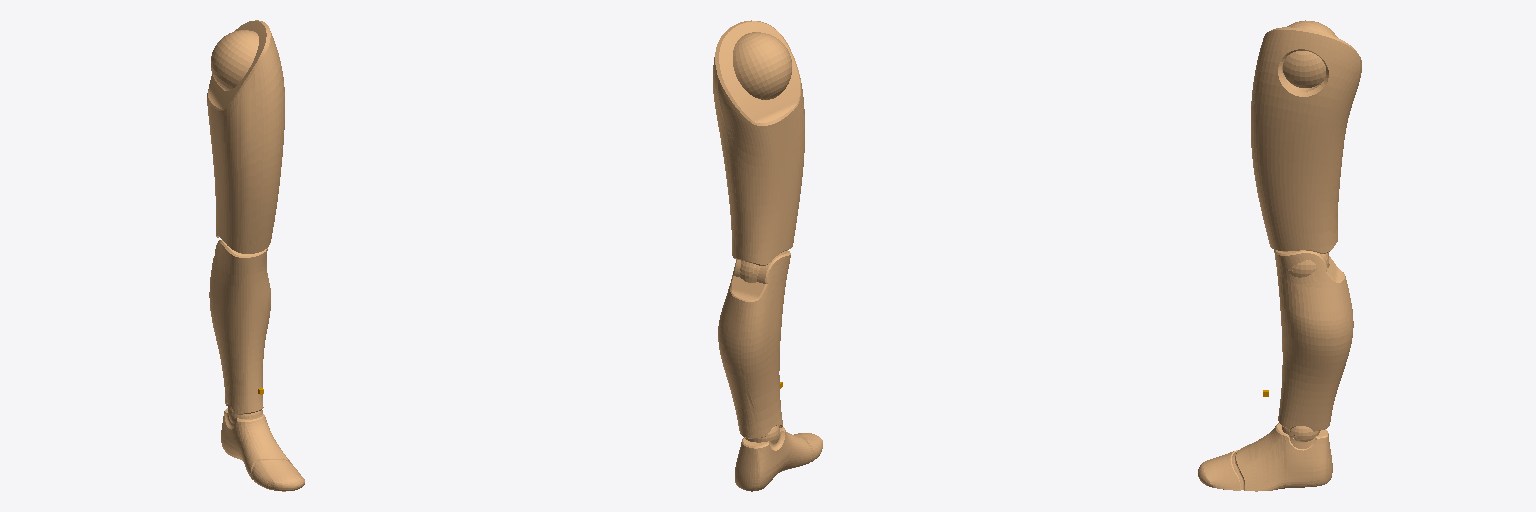
The robot description file, URDF, robot "left_leg":
<?xml version="1.0" ?>
<robot name="left_leg">

  <material name="skin">
    <color rgba="0.9 0.72 0.53 1.000"/>
  </material>

  <link name="base_link">
    <inertial>
      <origin xyz="0.0 0.0 0.0" rpy="0 0 0"/>
      <mass value="0.0"/>
      <inertia ixx="0.0" iyy="0.0" izz="0.0" ixy="0.0" iyz="0.0" ixz="0.0"/>
    </inertial>
  </link>

  <joint name="base_fixed" type="fixed">
    <origin rpy="0 0 0.0" xyz="0 0 0.0"/>
    <parent link="base_link"/>
    <child link="base_link_0"/>
  </joint>

  <link name="base_link_0">
    <inertial>
      <origin xyz="0.0 0.0 0.0" rpy="0 0 0"/>
      <mass value="0.0"/>
      <inertia ixx="0.0" iyy="0.0" izz="0.0" ixy="0.0" iyz="0.0" ixz="0.0"/>
    </inertial>
  </link>

  <link name="base_link_1">
    <inertial>
      <origin xyz="0.0 0.0 0.0" rpy="0 0 0"/>
      <mass value="0.0"/>
      <inertia ixx="0.0" iyy="0.0" izz="0.0" ixy="0.0" iyz="0.0" ixz="0.0"/>
    </inertial>
  </link>

  <link name="base_link_2">
    <inertial>
      <origin xyz="0.0 0.0 0.0" rpy="0 0 0"/>
      <mass value="0.0"/>
      <inertia ixx="0.0" iyy="0.0" izz="0.0" ixy="0.0" iyz="0.0" ixz="0.0"/>
    </inertial>
  </link>

    <link name="foot_x">
    <inertial>
      <origin xyz="0.0 0.0 0.0" rpy="0 0 0"/>
      <mass value="0.0"/>
      <inertia ixx="0.0" iyy="0.0" izz="0.0" ixy="0.0" iyz="0.0" ixz="0.0"/>
    </inertial>
  </link>

  <link name="upper_leg">
    <inertial>
      <origin xyz="0.00277 -0.00352 -0.098" rpy="0 0 0"/>
      <mass value="1.0"/>
      <inertia ixx="0.00691" iyy="0.00674" izz="0.00097" ixy="-6.65745e-06" iyz="-7.0718e-05" ixz="0.00015"/>
    </inertial>
    <visual>
      <origin xyz="0 0 0" rpy="0 0 0"/>
      <geometry>
        <mesh filename="meshes/left_upper_leg.stl" scale="1.0 1.0 1.0"/>
      </geometry>
      <material name="skin"/>
    </visual>
    <collision>
      <origin xyz="0 0 0" rpy="0 0 0"/>
      <geometry>
        <mesh filename="meshes/left_upper_leg.stl" scale="1.0 1.0 1.0"/>
      </geometry>
    </collision>
  </link>

  <link name="lower_leg">
    <inertial>
      <origin xyz="0.01457 9.28389e-05 -0.19143" rpy="0 0 0"/>
      <mass value="1.0"/>
      <inertia ixx="0.01712" iyy="0.01699" izz="0.00072" ixy="-5.34657e-05" iyz="-0.00071" ixz="0.00031"/>
    </inertial>
    <visual>
      <origin xyz="0.0 0.0 0.0" rpy="0 0 0"/>
      <geometry>
        <mesh filename="meshes/left_lower_leg_without_foot.stl" scale="1.0 1.0 1.0"/>
      </geometry>
      <material name="skin"/>
    </visual>
    <collision>
      <origin xyz="0.0 0.0 0.0" rpy="0 0 0"/>
      <geometry>
        <mesh filename="meshes/left_lower_leg_without_foot.stl" scale="1.0 1.0 1.0"/>
      </geometry>
    </collision>
  </link>

  <link name="foot">
    <inertial>
      <origin xyz="0.16051 -0.012319 0.075256" rpy="0 0 0"/>
      <mass value="1.0"/>
      <inertia ixx="0.01712" iyy="0.01699" izz="0.00072" ixy="-5.34657e-05" iyz="-0.00071" ixz="0.00031"/>
    </inertial>
    <visual>
      <origin xyz="0.0 0.0 0.0" rpy="0 0 0"/>
      <geometry>
        <mesh filename="meshes/left_foot.stl" scale="1.0 1.0 1.0"/>
      </geometry>
      <material name="skin"/>
    </visual>
    <collision>
      <origin xyz="0.0 0.0 0.0" rpy="0 0 0"/>
      <geometry>
        <mesh filename="meshes/left_foot.stl" scale="1.0 1.0 1.0"/>
      </geometry>
    </collision>
  </link>

  <joint name="base_x" type="continuous">
    <origin xyz="0.0 0.0 0.0" rpy="0 0 0"/>
    <parent link="base_link_0"/>
    <child link="base_link_1"/>
    <axis xyz="1.0 0.0 0.0"/>
    <!-- <limit effort="100" lower="-1.57" upper="1.57" velocity="5.0"/> -->
  </joint>

  <joint name="base_y" type="continuous">
    <origin xyz="0.0 0.0 0.0" rpy="0 0 0"/>
    <parent link="base_link_1"/>
    <child link="base_link_2"/>
    <axis xyz="0.0 1.0 0.0"/>
    <!-- <limit effort="100" lower="-1.57" upper="0" velocity="5.0"/> -->
  </joint>

  <joint name="base_z" type="continuous">
    <origin xyz="0.0 0.0 0.0" rpy="0 0 0"/>
    <parent link="base_link_2"/>
    <child link="upper_leg"/>
    <axis xyz="0.0 0.0 1.0"/>
    <!-- <limit effort="100" lower="0.0" upper="1.57" velocity="5.0"/> -->
  </joint>

  <joint name="upper_to_lower" type="continuous">
    <origin xyz="0.0 0.0 -0.430301" rpy="0 0 0"/>
    <parent link="upper_leg"/>
    <child link="lower_leg"/>
    <axis xyz="1.0 0.0 0.0"/>
    <!-- <limit effort="100" lower="-2.0944" upper="0.0" velocity="5.0"/> -->
  </joint>


  <joint name="lower_to_foot_x" type="fixed">
    <origin xyz="0.0 0.0 -0.35039" rpy="0 0 0"/>
    <parent link="lower_leg"/>
    <child link="foot_x"/>
    <!-- <axis xyz="1.0 0.0 0.0"/> -->
    <!-- <limit effort="100" lower="-2.0944" upper="0.0" velocity="5.0"/> -->
  </joint>


  <joint name="lower_to_foot" type="fixed">
    <origin xyz="0.0 0.0 0.0" rpy="0 0 0"/>
    <parent link="foot_x"/>
    <child link="foot"/>
    <!-- <axis xyz="0.0 1.0 0.0"/> -->
    <!-- <limit effort="100" lower="-2.0944" upper="0.0" velocity="5.0"/> -->
  </joint>



  <joint name="grasp_fixed_joint" type="fixed">
    <parent link="foot"/>
    <child link="ee_link"/>
    <origin rpy="0.0 0.0 0.0" xyz="0.0 -0.07 0.07"/>
  </joint>

  <link name="ee_link">
    <inertial>
      <origin xyz="0.0 0.0 0.0" rpy="0 0 0"/>
      <mass value="0.0"/>
      <inertia ixx="0.0" iyy="0.0" izz="0.0" ixy="0.0" iyz="0.0" ixz="0.0"/>
    </inertial>
    <visual>
      <geometry>
        <box size="0.01 0.01 0.01"/>
      </geometry>
      <origin rpy="0 0 0" xyz="0.0 0 0"/>
    </visual>
  </link>

</robot>

--- What the picture shows (computed from the rendered views, not written in the file) ---
3 views of the same robot in one strip: view 1: azimuth 30°, elevation 25°; view 2: azimuth 150°, elevation 25°; view 3: azimuth 270°, elevation 25° (orthographic).
Model left_leg with 9 links and 8 joints (4 continuous, 4 fixed), rooted at base_link, posed all joints at 0.
Links seen in each view (by area): view 1: upper_leg, lower_leg, foot; view 2: upper_leg, lower_leg, foot; view 3: upper_leg, lower_leg, foot.
Link boxes in pixels (<box>): upper_leg: <box>207,20,284,253</box>; lower_leg: <box>209,240,270,417</box>; foot: <box>221,408,304,491</box>; upper_leg: <box>713,20,804,279</box>; lower_leg: <box>718,250,790,438</box>; foot: <box>735,427,822,491</box>; upper_leg: <box>1251,20,1361,277</box>; lower_leg: <box>1274,250,1353,434</box>; foot: <box>1198,423,1332,491</box>.
Bounding box of the posed robot: 0.1495 × 0.3127 × 0.9649 m (x, y, z).
3 mesh visuals loaded from 3 distinct referenced files (3 binary STL).